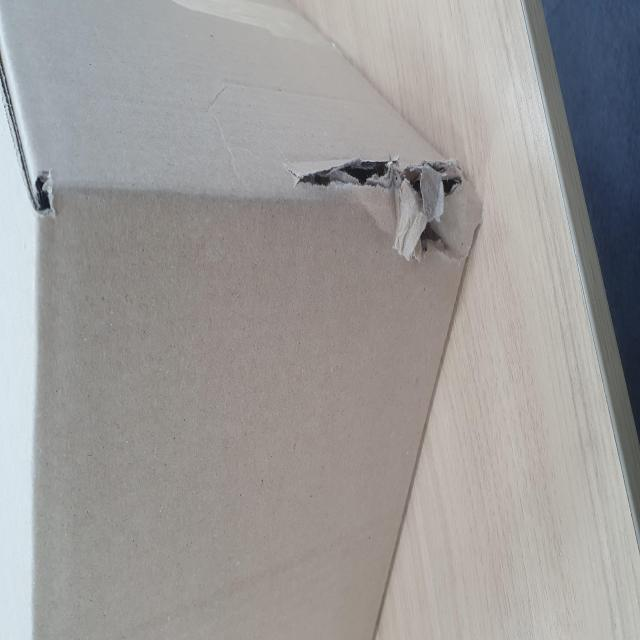damaged: (208, 516, 274, 640)
